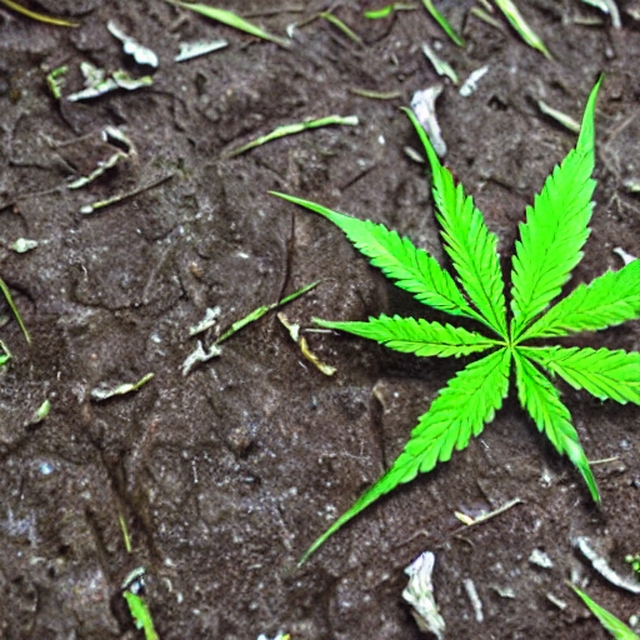Marijuana Leaf: (265, 70, 640, 569)
